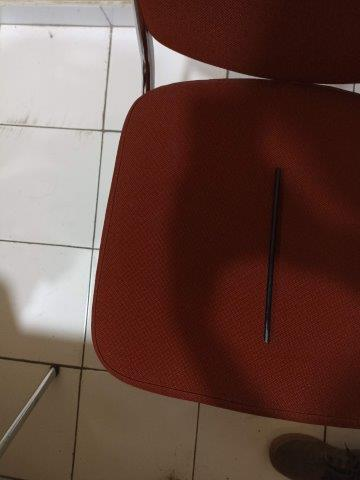sedotan: (264, 169, 281, 341)
